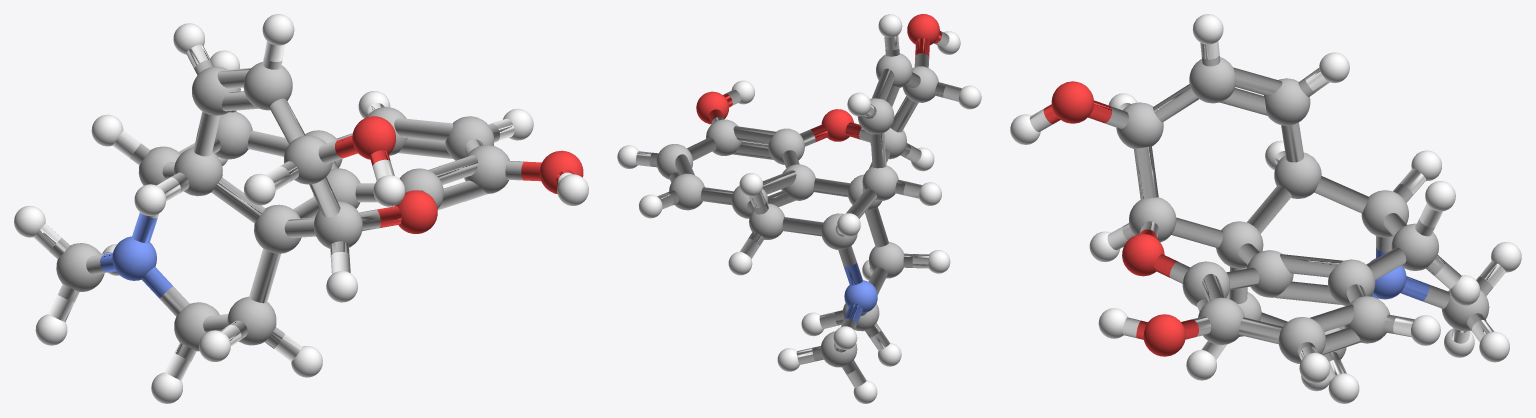
The model's file is morphine.fbx.
3 renders of one model, left to right at view 1: azimuth 30°, elevation 25°; view 2: azimuth 150°, elevation 25°; view 3: azimuth 270°, elevation 25°, orthographic. The views are drawn at different scales.
Parts seen in each view (by area): view 1: C17_Atom, C5_Atom, C6_Atom, C18_Atom, C9_Atom, C8_Atom, C14_Atom, N4_Atom, C20_Atom, O2_Atom, O1_Atom, C11_Atom (+37 smaller); view 2: C19_Atom, C6_Atom, C9_Atom, C11_Atom, C16_Atom, C20_Atom, C15_Atom, C14_Atom, C10_Atom, C17_Atom, O2_Atom, N4_Atom (+39 smaller); view 3: C17_Atom, C15_Atom, C6_Atom, C14_Atom, C20_Atom, C11_Atom, C10_Atom, C19_Atom, C21_Atom, O2_Atom, O3_Atom, C7_Atom (+38 smaller).
Part boxes in pixels (x1,y1,x2,y2): C17_Atom: (243,62,292,110); C5_Atom: (254,204,301,253); C6_Atom: (174,147,222,196); C18_Atom: (56,243,104,291); C9_Atom: (227,296,276,345); C8_Atom: (313,201,362,248); C14_Atom: (284,135,332,184); N4_Atom: (112,236,156,280); C20_Atom: (464,145,509,193); O2_Atom: (352,116,395,159); O1_Atom: (395,190,437,233); C11_Atom: (215,111,252,159); C19_Atom: (669,173,704,210); C6_Atom: (862,165,898,200); C9_Atom: (869,242,904,278); C11_Atom: (749,203,784,239); C16_Atom: (768,128,804,164); C20_Atom: (706,119,741,155); C15_Atom: (857,98,894,134); C14_Atom: (902,66,938,102); C10_Atom: (781,164,815,200); C17_Atom: (876,53,912,87); O2_Atom: (907,14,939,45); N4_Atom: (844,280,877,313); C17_Atom: (1189,57,1235,103); C15_Atom: (1264,78,1310,125); C6_Atom: (1274,152,1321,198); C14_Atom: (1116,102,1163,148); C20_Atom: (1198,297,1244,344); C11_Atom: (1391,223,1438,270); C10_Atom: (1247,250,1293,297); C19_Atom: (1344,296,1389,343); C21_Atom: (1278,317,1325,363); O2_Atom: (1051,81,1093,123); O3_Atom: (1143,314,1185,356); C7_Atom: (1361,190,1408,237).
Size of the model in its own units: 769 by 728 by 843.
